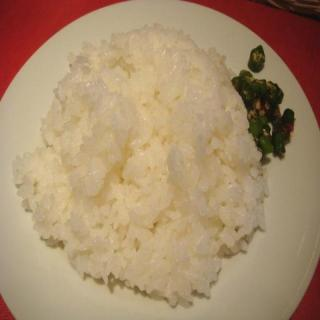Nasi: (11, 22, 270, 310)
